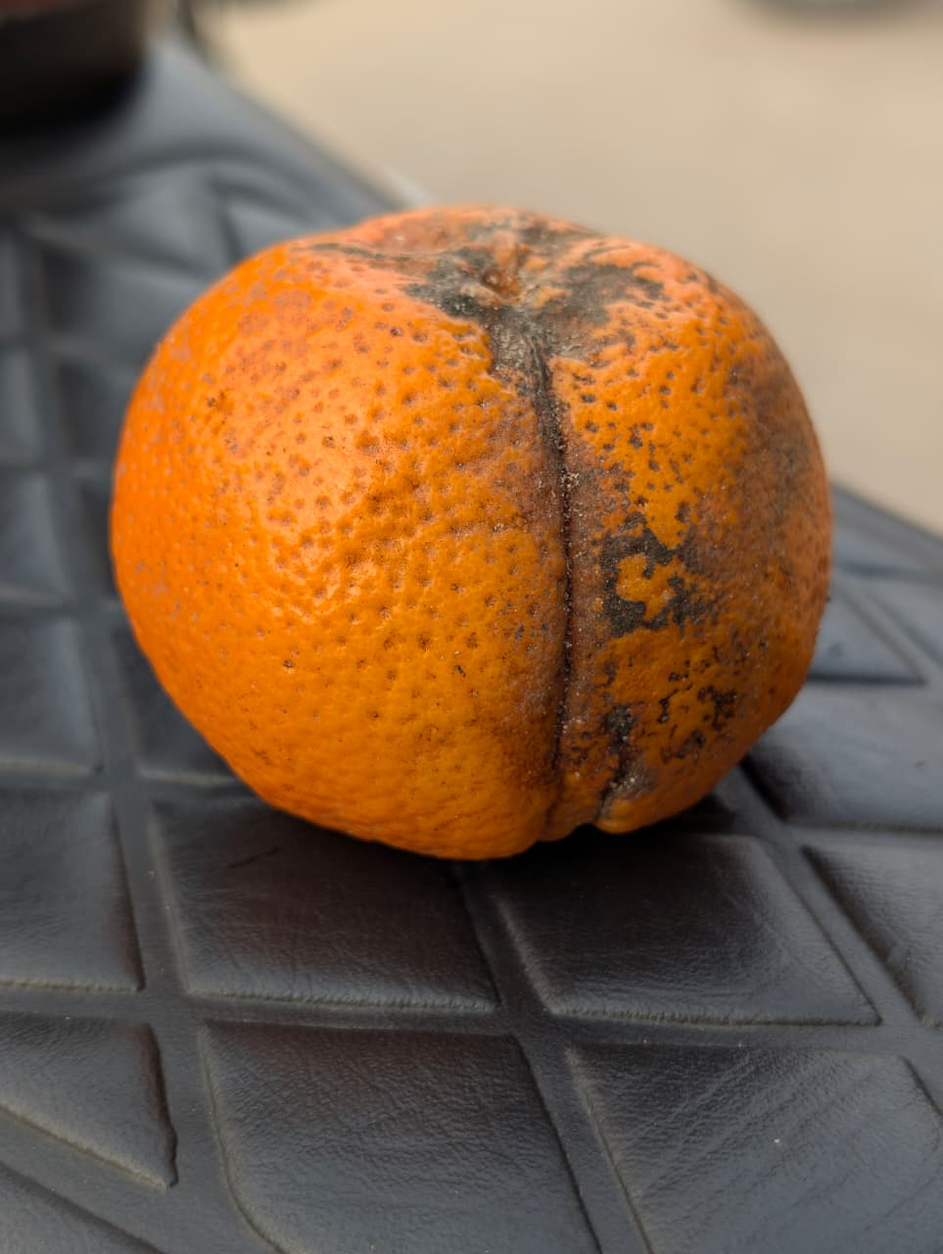orange: (104, 185, 734, 1042)
